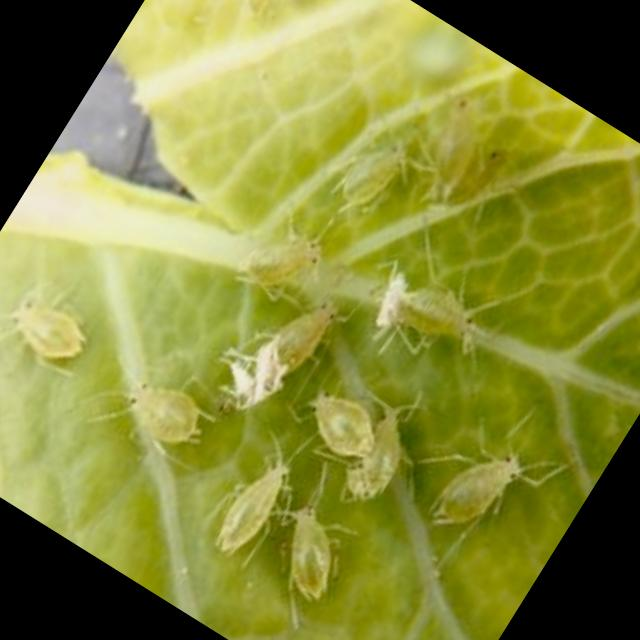Green peach aphid: (400, 370, 604, 589), (372, 238, 546, 400), (165, 426, 314, 600), (226, 480, 388, 640), (74, 339, 238, 497), (0, 242, 131, 411), (402, 80, 542, 226), (208, 180, 349, 322), (301, 96, 438, 238), (324, 375, 452, 520), (245, 265, 362, 388), (281, 360, 393, 475)
